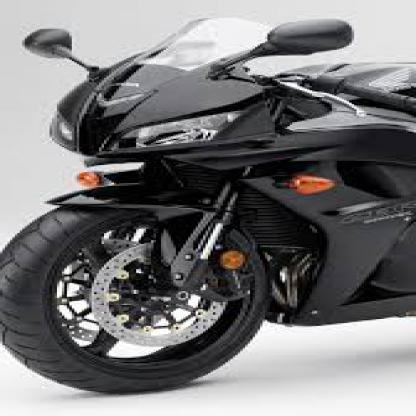Motorcycle: (5, 0, 413, 394)
